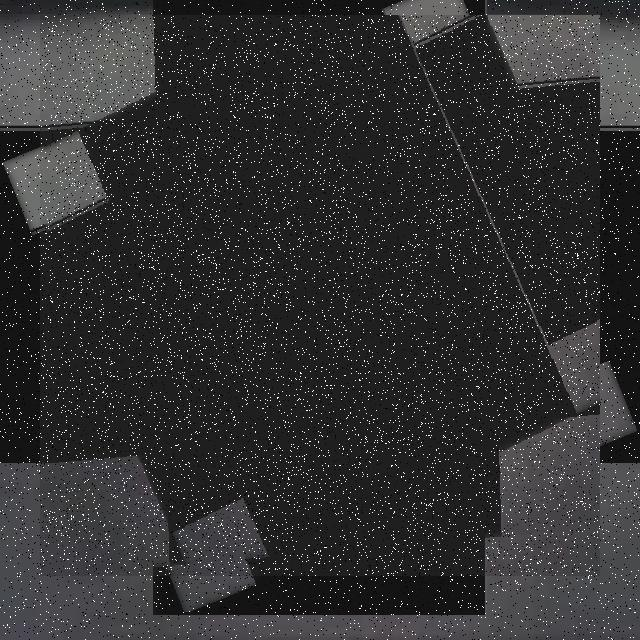dua puluh ribu rupiah: (40, 15, 600, 576)
